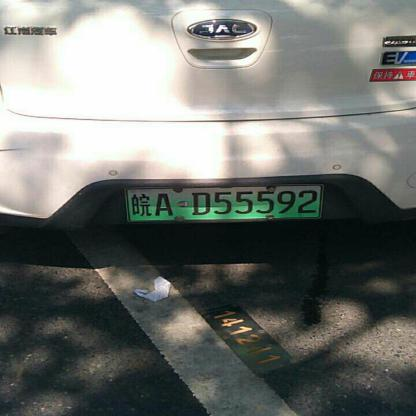lp: (125, 186, 321, 221)
